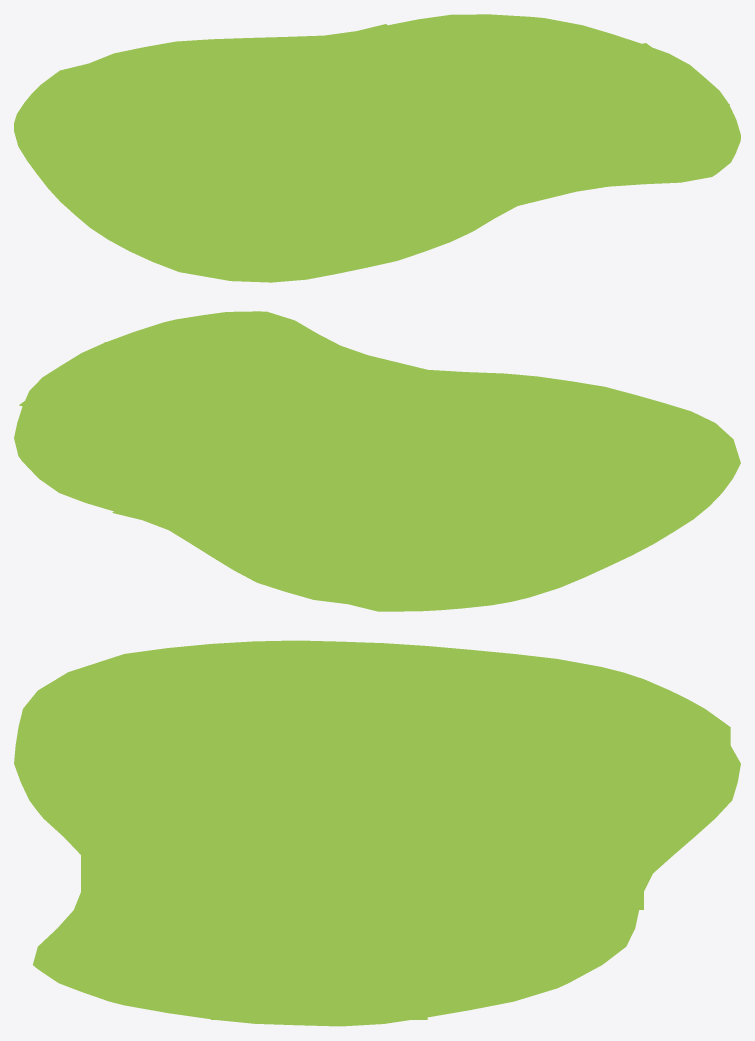
The model's file is Island.fbx.
The picture shows the model from 3 angles, top to bottom: view 1: azimuth 30°, elevation 25°; view 2: azimuth 150°, elevation 25°; view 3: azimuth 270°, elevation 25°; orthographic projection. The views are drawn at different scales.
Parts seen in each view (by area): view 1: WATER02; view 2: WATER02; view 3: WATER02.
Boxes of the visible parts, x1,y1,x2,y2 form: WATER02: (14, 14, 740, 282); WATER02: (14, 311, 740, 611); WATER02: (14, 640, 740, 1026).
Size of the model in its own units: 1027 by 0.000133 by 817.
